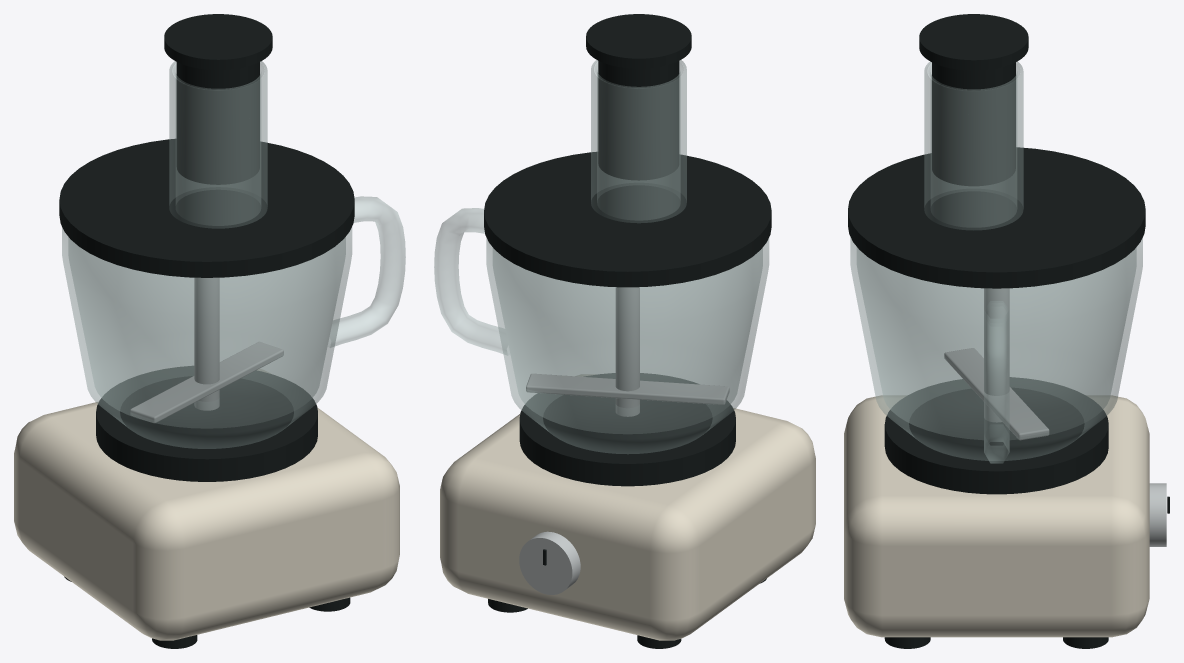
Rendered from kitchen-food-processor.glb.
3 views of the same model, side by side, from view 1: azimuth 30°, elevation 25°; view 2: azimuth 150°, elevation 25°; view 3: azimuth 270°, elevation 25° (orthographic). The views are drawn at different scales.
Parts seen in each view (by area): view 1: dark_surfaces, glass_surfaces, cream_surfaces, steel_surfaces; view 2: dark_surfaces, glass_surfaces, cream_surfaces, steel_surfaces; view 3: dark_surfaces, glass_surfaces, cream_surfaces, steel_surfaces.
Boxes of the visible parts, x1,y1,x2,y2 form: dark_surfaces: (59,14,354,648); glass_surfaces: (62,61,405,448); cream_surfaces: (14,369,399,640); steel_surfaces: (130,277,283,423); dark_surfaces: (484,14,771,648); glass_surfaces: (434,60,769,453); cream_surfaces: (440,374,815,640); steel_surfaces: (519,287,729,594); dark_surfaces: (848,14,1169,648); glass_surfaces: (850,61,1142,463); cream_surfaces: (844,395,1149,637); steel_surfaces: (944,288,1166,546).
Size of the model in its own units: 0.299 by 0.4895 by 0.256.
